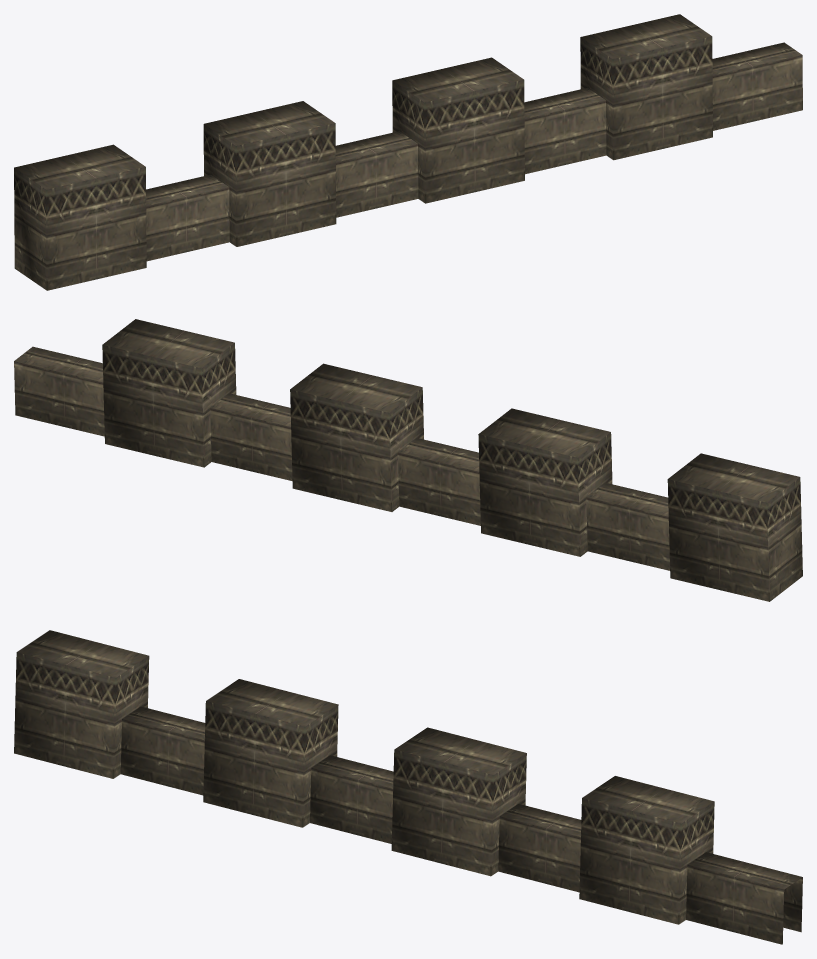
Rendered from S_Build_Forest048.FBX.
The picture shows the model from 3 angles, top to bottom: view 1: azimuth 30°, elevation 25°; view 2: azimuth 150°, elevation 25°; view 3: azimuth 330°, elevation 25°; orthographic projection.
Visible parts, largest first — view 1: S_Build_Forest048; view 2: S_Build_Forest048; view 3: S_Build_Forest048.
Boxes of the visible parts, x1,y1,x2,y2 form: S_Build_Forest048: (14,14,802,290); S_Build_Forest048: (14,319,802,601); S_Build_Forest048: (14,630,802,944).
Bounding box in the file's own units: 1023 × 85.76 × 140.
